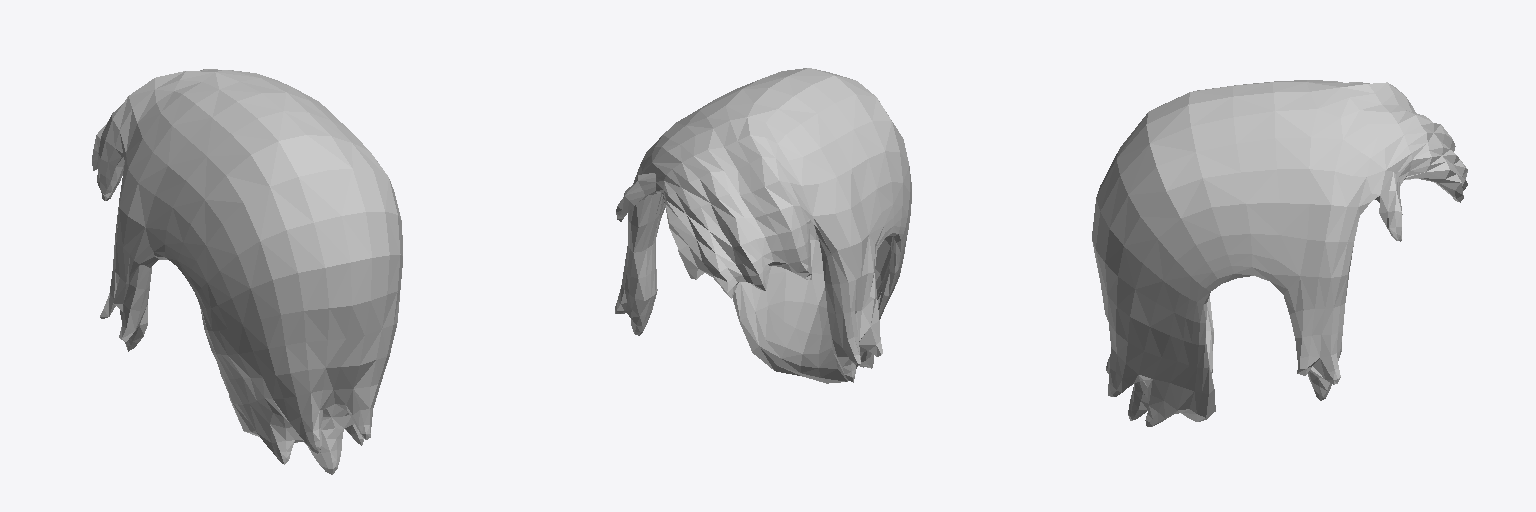
File: guyHair1.OBJ
3 views of the same model, side by side, from view 1: azimuth 30°, elevation 25°; view 2: azimuth 150°, elevation 25°; view 3: azimuth 270°, elevation 25° (orthographic).
Visible parts, largest first — view 1: Group43841; view 2: Group43841; view 3: Group43841.
Part boxes in pixels (x1,y1,x2,y2): Group43841: (92,69,402,474); Group43841: (615,68,911,383); Group43841: (1092,80,1467,426).
Bounding box in the file's own units: 31.52 × 39.54 × 40.97.